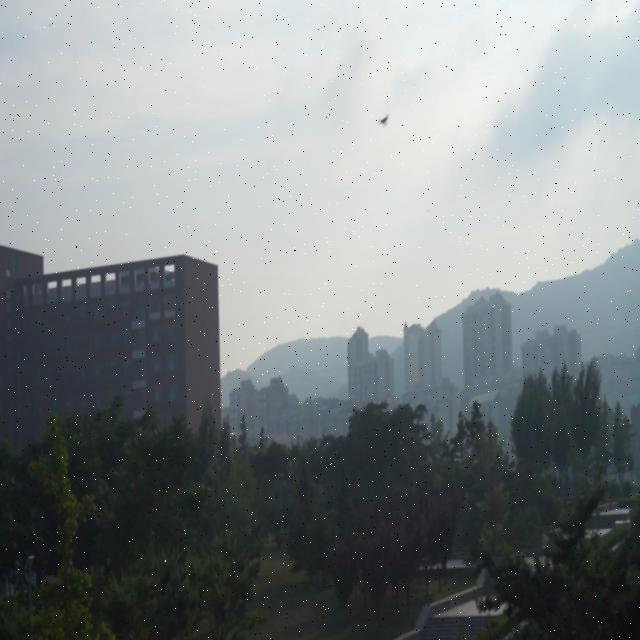UAV: (378, 114, 390, 128)
